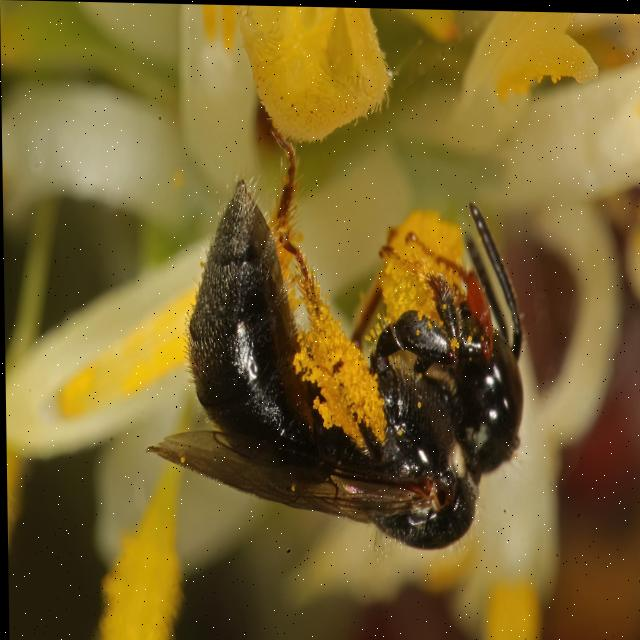Braunsapis: (138, 125, 549, 570)
